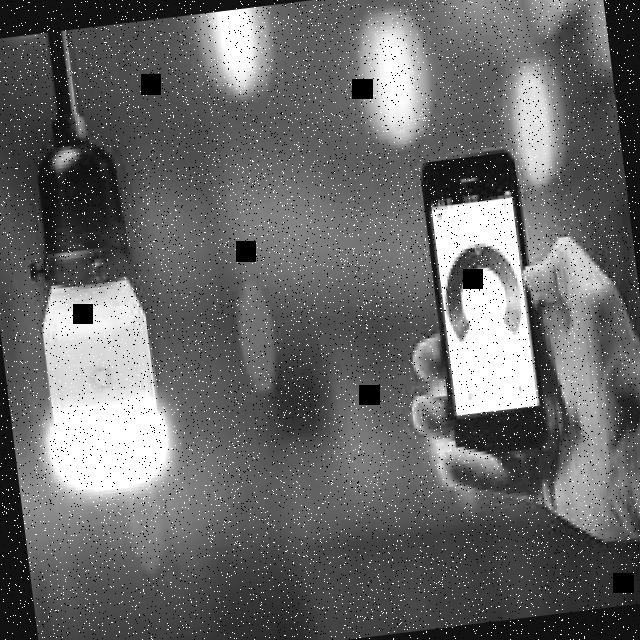light_bulb: (0, 110, 183, 514)
